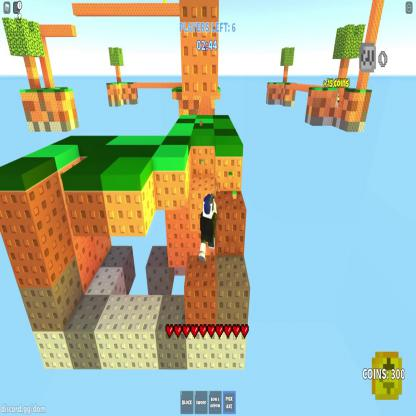Roblox-Avatar: (200, 195, 219, 264)
